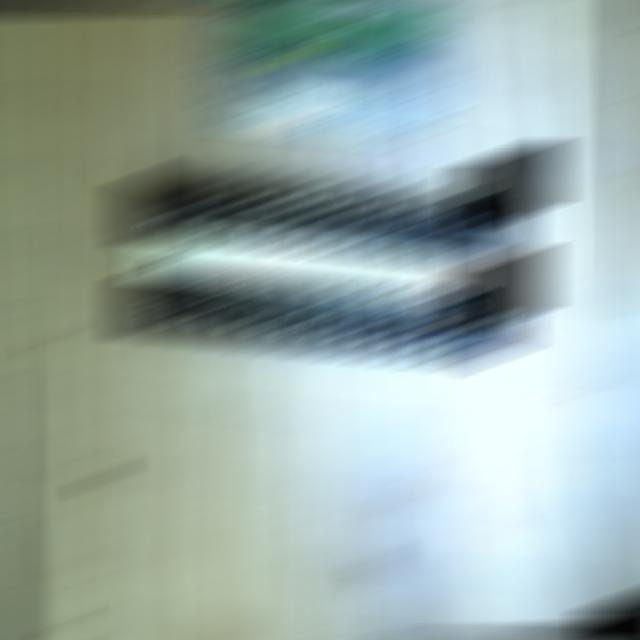Flathead_Block: (111, 175, 533, 357)
Terminal_1: (236, 3, 336, 50), (337, 10, 435, 53)
